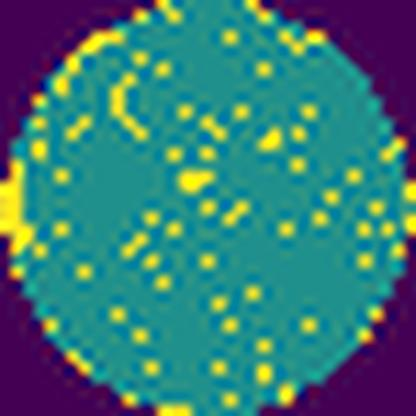Edge-Loc: (0, 154, 48, 265)
